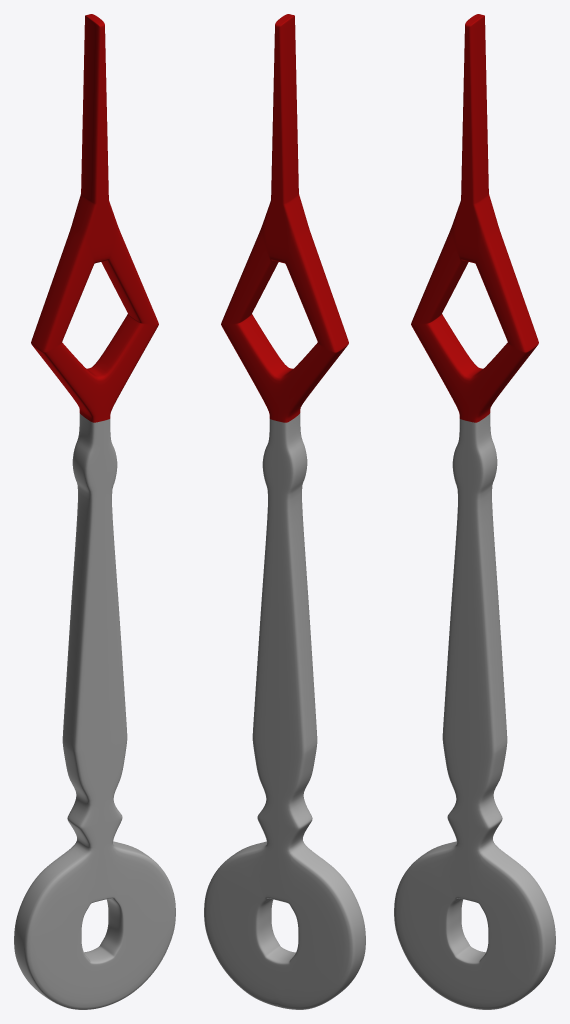
Rendered from MinuteHand2_high.fbx.
The picture shows the model from 3 angles, left to right: view 1: azimuth 30°, elevation 25°; view 2: azimuth 150°, elevation 25°; view 3: azimuth 330°, elevation 25°; orthographic projection.
Visible parts, largest first — view 1: MinuteHand_2_high; view 2: MinuteHand_2_high; view 3: MinuteHand_2_high.
Boxes of the visible parts, <box> form: MinuteHand_2_high: <box>14,14,175,1009</box>; MinuteHand_2_high: <box>204,14,365,1009</box>; MinuteHand_2_high: <box>394,14,555,1009</box>.
Bounding box in the file's own units: 322 × 2004 × 55.63.
